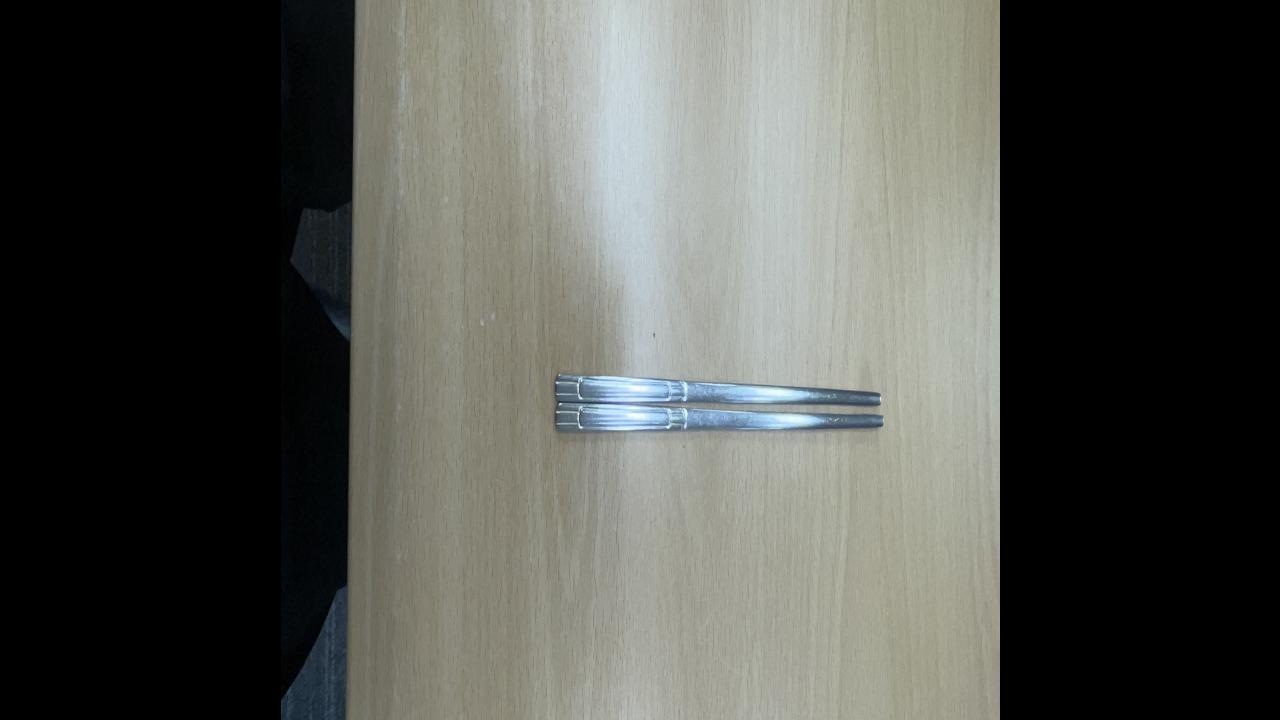chopstick: (544, 366, 886, 441)
